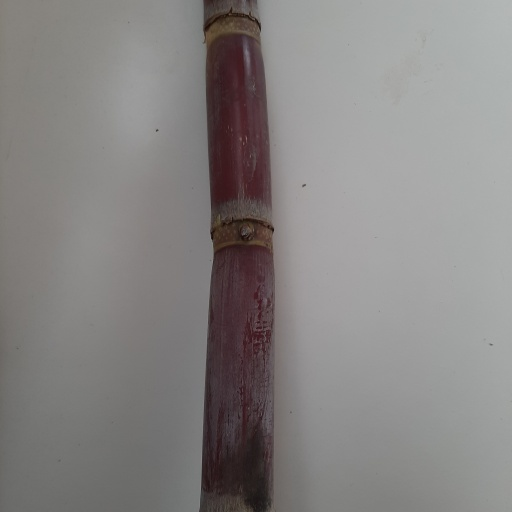Bud: (236, 221, 255, 244)
